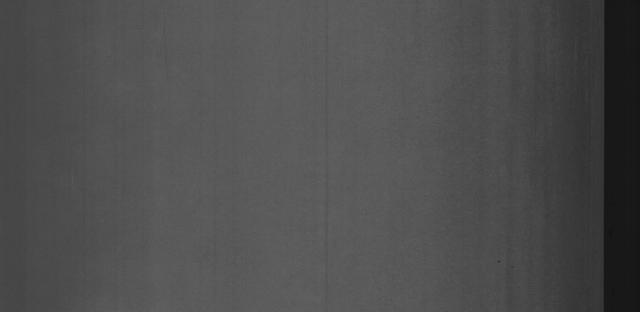inclusion: (492, 254, 518, 275)
